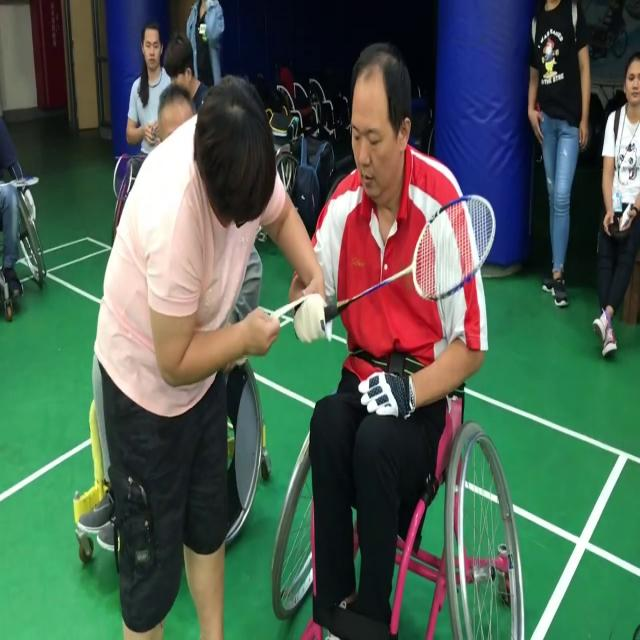wheelchairs: (259, 331, 544, 640)
